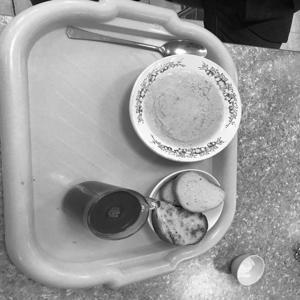bread: (162, 168, 233, 216)
cheese_sandwich: (145, 184, 208, 252)
coffee: (65, 165, 163, 262)
porridge: (137, 56, 239, 156)
